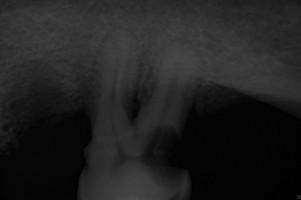Endo-Periodontal Lesion: (129, 80, 157, 122)
